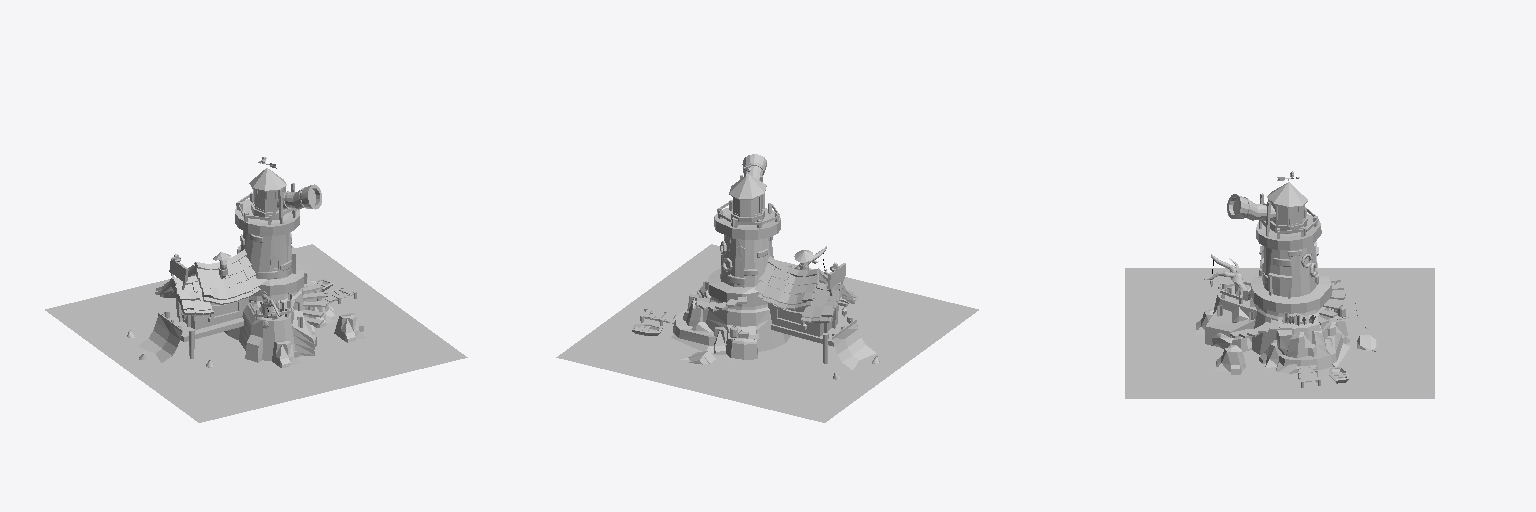
The model's file is lighthouse.obj.
3 renders of one model, left to right at view 1: azimuth 30°, elevation 25°; view 2: azimuth 150°, elevation 25°; view 3: azimuth 270°, elevation 25°, orthographic.
Parts seen in each view (by area): view 1: Plane001_Material_#371_0, Cylinder001_Material_#343_0, Box091_Material_#8721_0, Box003_Material_#185_0, Plane002_22_-_Default_0, Cylinder010_Material_#286_0, Box025_Material_#288_0, Box054_Material_#288_0; view 2: Plane001_Material_#371_0, Cylinder001_Material_#343_0, Box091_Material_#8721_0, Box003_Material_#185_0, Plane002_22_-_Default_0; view 3: Plane001_Material_#371_0, Cylinder001_Material_#343_0, Cylinder010_Material_#286_0, Box025_Material_#288_0.
Part boxes in pixels (x1,y1,x2,y2): Plane001_Material_#371_0: (45, 244, 467, 422); Cylinder001_Material_#343_0: (224, 168, 328, 362); Box091_Material_#8721_0: (155, 256, 260, 314); Box003_Material_#185_0: (160, 249, 249, 341); Plane002_22_-_Default_0: (139, 316, 181, 362); Cylinder010_Material_#286_0: (277, 184, 321, 209); Box025_Material_#288_0: (334, 313, 366, 342); Box054_Material_#288_0: (272, 339, 300, 367); Plane001_Material_#371_0: (556, 244, 978, 422); Cylinder001_Material_#343_0: (671, 174, 791, 359); Box091_Material_#8721_0: (755, 263, 858, 322); Box003_Material_#185_0: (768, 250, 857, 346); Plane002_22_-_Default_0: (833, 322, 875, 369); Plane001_Material_#371_0: (1125, 268, 1434, 398); Cylinder001_Material_#343_0: (1205, 182, 1349, 370); Cylinder010_Material_#286_0: (1227, 194, 1275, 220); Box025_Material_#288_0: (1215, 345, 1245, 374).
Bounding box in the file's own units: 800 × 520 × 800.